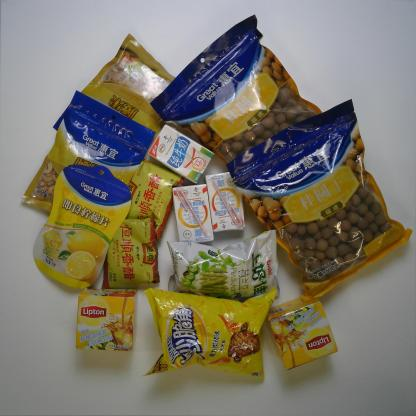Dried Food: (227, 98, 414, 303), (149, 13, 323, 168)
Dried Fruit: (21, 90, 156, 215), (53, 32, 179, 152), (31, 164, 133, 291)
Instant Drink: (265, 295, 339, 371), (75, 286, 138, 354)
Milk: (148, 123, 216, 185), (172, 182, 216, 244), (204, 170, 247, 232)
Puffed Food: (141, 284, 278, 381), (166, 229, 280, 300)
Seasoner: (123, 158, 184, 242), (100, 217, 160, 290)
